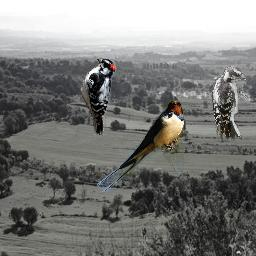Swallow: (97, 100, 184, 192)
Woodpecker: (80, 56, 117, 135), (211, 66, 249, 141)
